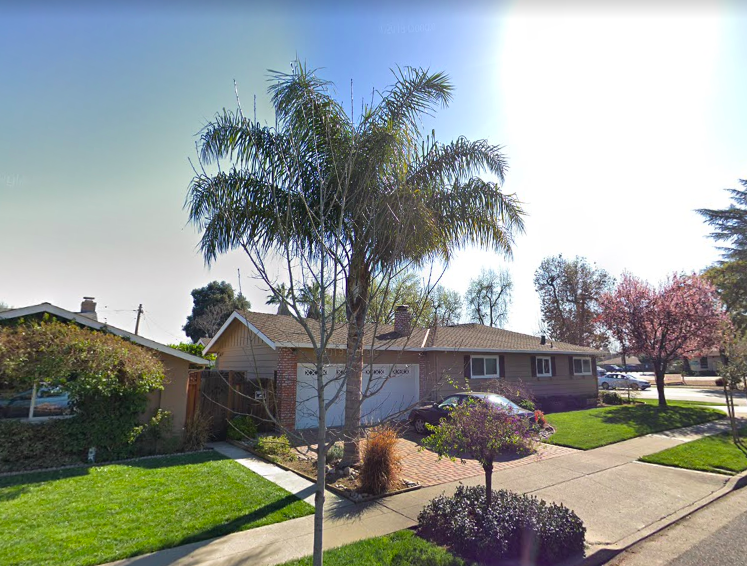tree: (179, 50, 531, 476)
